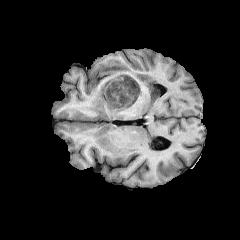glioma: (91, 60, 160, 119)
